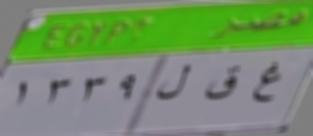1: (13, 73, 38, 111)
3: (44, 71, 74, 109), (80, 71, 111, 106)
9: (118, 68, 143, 106)
ghayn: (250, 59, 286, 109)
laam: (155, 63, 196, 103)
qaaf: (202, 62, 244, 102)
